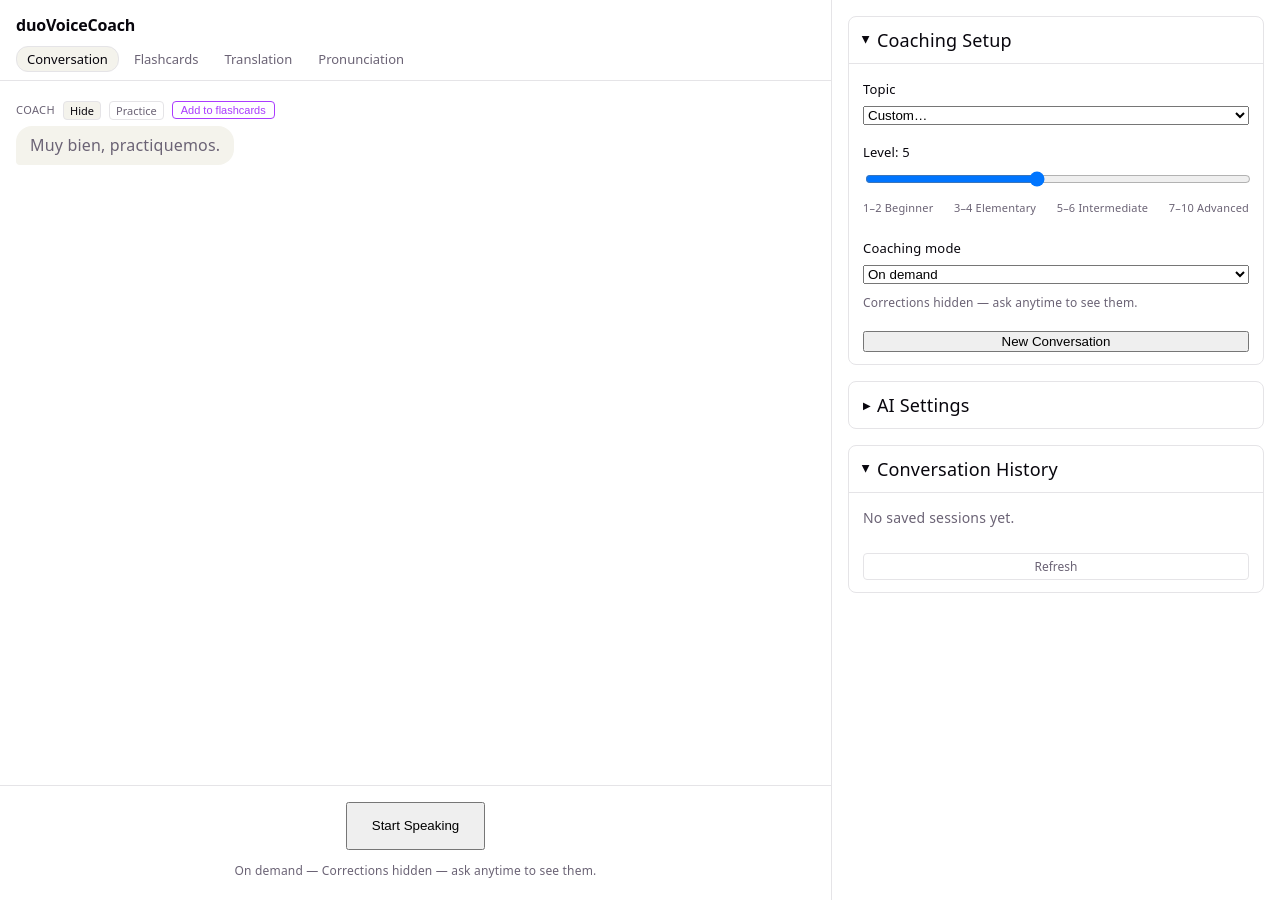
Test case: App — Practice button cross-mode handoff › clicking Practice on a coach turn switches to PronunciationView
The width and height of the screenshot is (1280, 900).
Click the button "Practice". click: (136, 110)
box: [109,101,164,120]
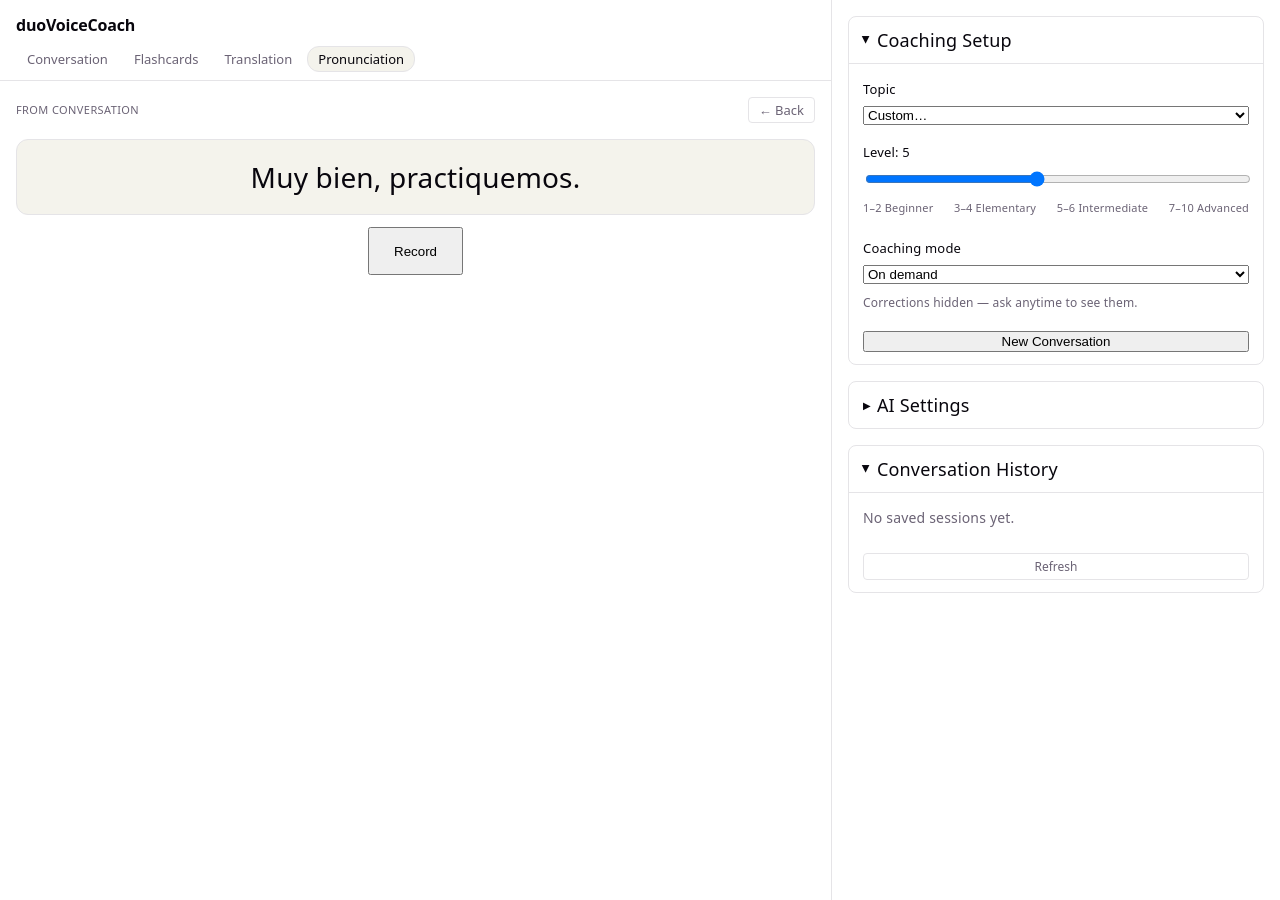
Now the element showing "From conversation ← Back Muy bien, practiquemos. Record" is shown, box [16,97,815,275]
Now the element with class "transcript" is gone
